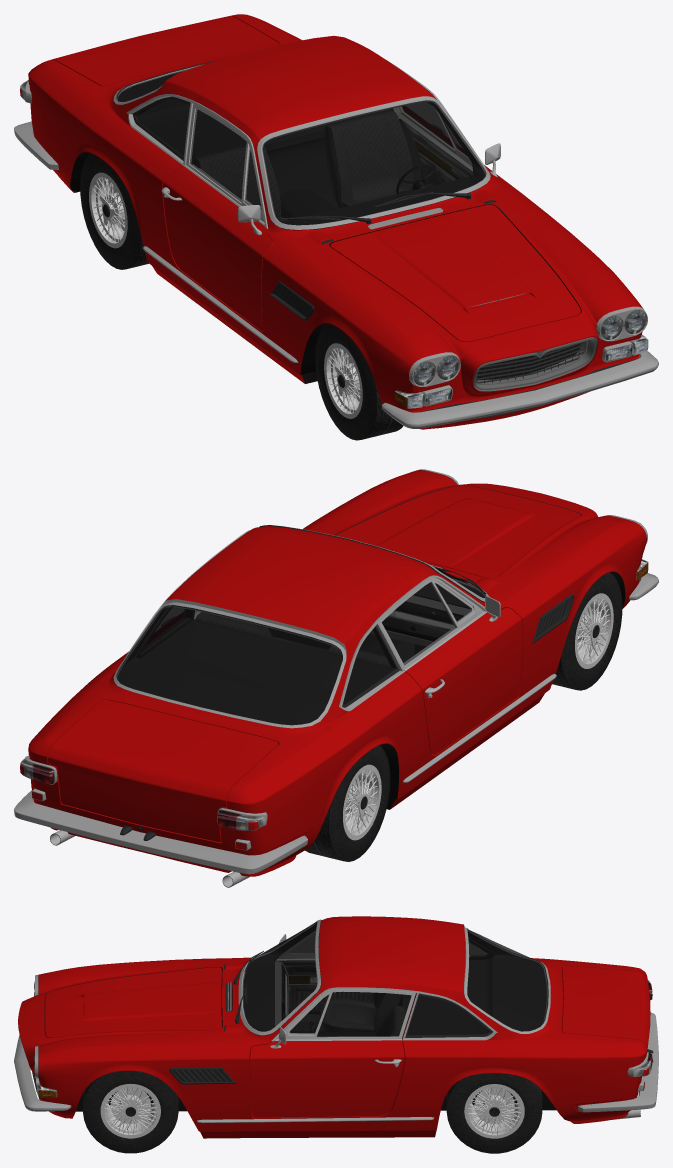
Rendered from Car_4.FBX.
3 views of the same model, one above another, from view 1: azimuth 30°, elevation 25°; view 2: azimuth 150°, elevation 25°; view 3: azimuth 270°, elevation 25° (orthographic). The views are drawn at different scales.
Visible parts, largest first — view 1: Body, Door_F, Door_R, Door_B, Wheel_FR, Wheel_BR, Door_L; view 2: Body, Door_B, Door_R, Door_F, Wheel_BR, Wheel_FR; view 3: Body, Door_L, Door_F, Wheel_FL, Wheel_BL, Door_B, Door_R.
Boxes of the visible parts, x1,y1,x2,y2 form: Body: [14, 14, 658, 429]; Door_F: [330, 204, 580, 342]; Door_R: [161, 104, 273, 330]; Door_B: [53, 15, 278, 86]; Wheel_FR: [315, 324, 403, 440]; Wheel_BR: [80, 153, 148, 269]; Door_L: [397, 102, 520, 192]; Body: [14, 469, 658, 887]; Door_B: [48, 700, 278, 842]; Door_R: [378, 577, 522, 754]; Door_F: [335, 485, 580, 578]; Wheel_BR: [305, 745, 390, 861]; Wheel_FR: [552, 572, 622, 690]; Body: [14, 916, 658, 1138]; Door_L: [249, 989, 415, 1117]; Door_F: [45, 967, 222, 1037]; Wheel_FL: [83, 1071, 178, 1153]; Wheel_BL: [446, 1073, 542, 1153]; Door_B: [562, 966, 650, 1049]; Door_R: [276, 930, 373, 1022].
Size of the model in its own units: 53.35 by 39.01 by 139.
